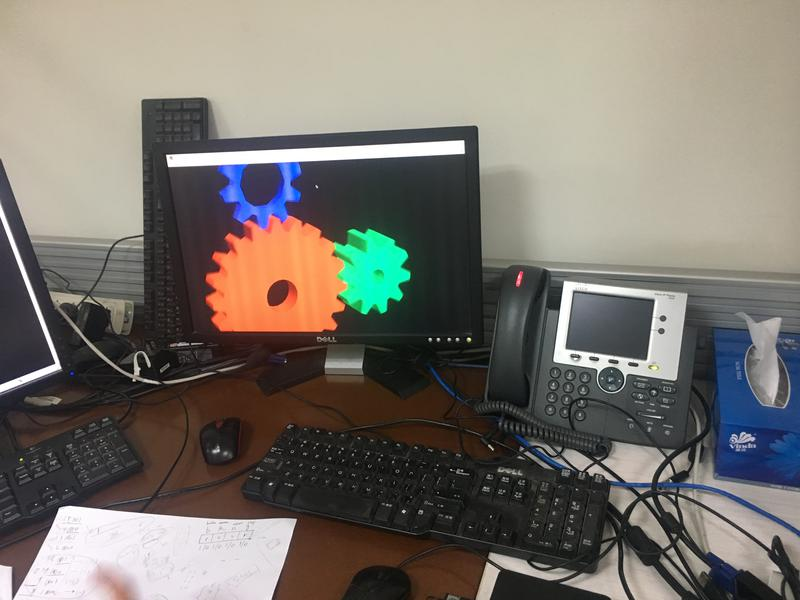glxgears_pass: (167, 150, 413, 338)
